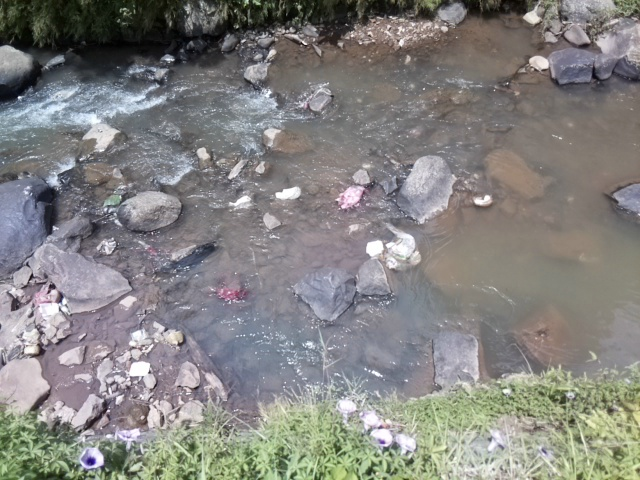Sampah_Plastik: (389, 225, 422, 270), (338, 186, 367, 211), (216, 284, 250, 302)
Sampah_Styrofoam: (363, 238, 384, 260), (126, 361, 152, 376), (275, 187, 301, 199)
